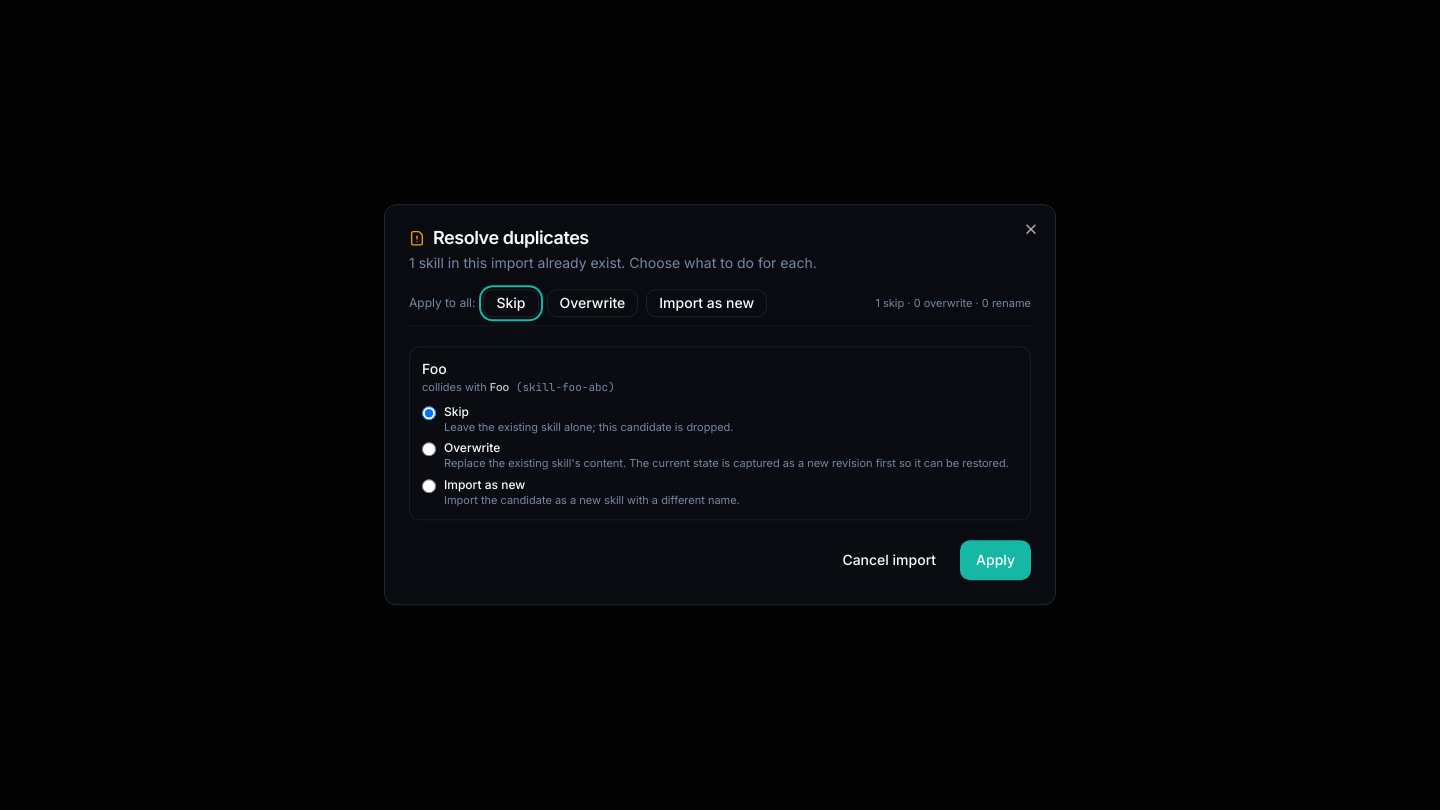
Test case: ImportConflictDialog — per-row mutation › re-suggests with (imported 2) when (imported) is also taken
The width and height of the screenshot is (1440, 810).
What coordinates should you click on to do the following:
click the radio button with test id "import-conflict-cand-1-rename"
I would click on:
 (429, 486)
Its box is [422,479,436,493].
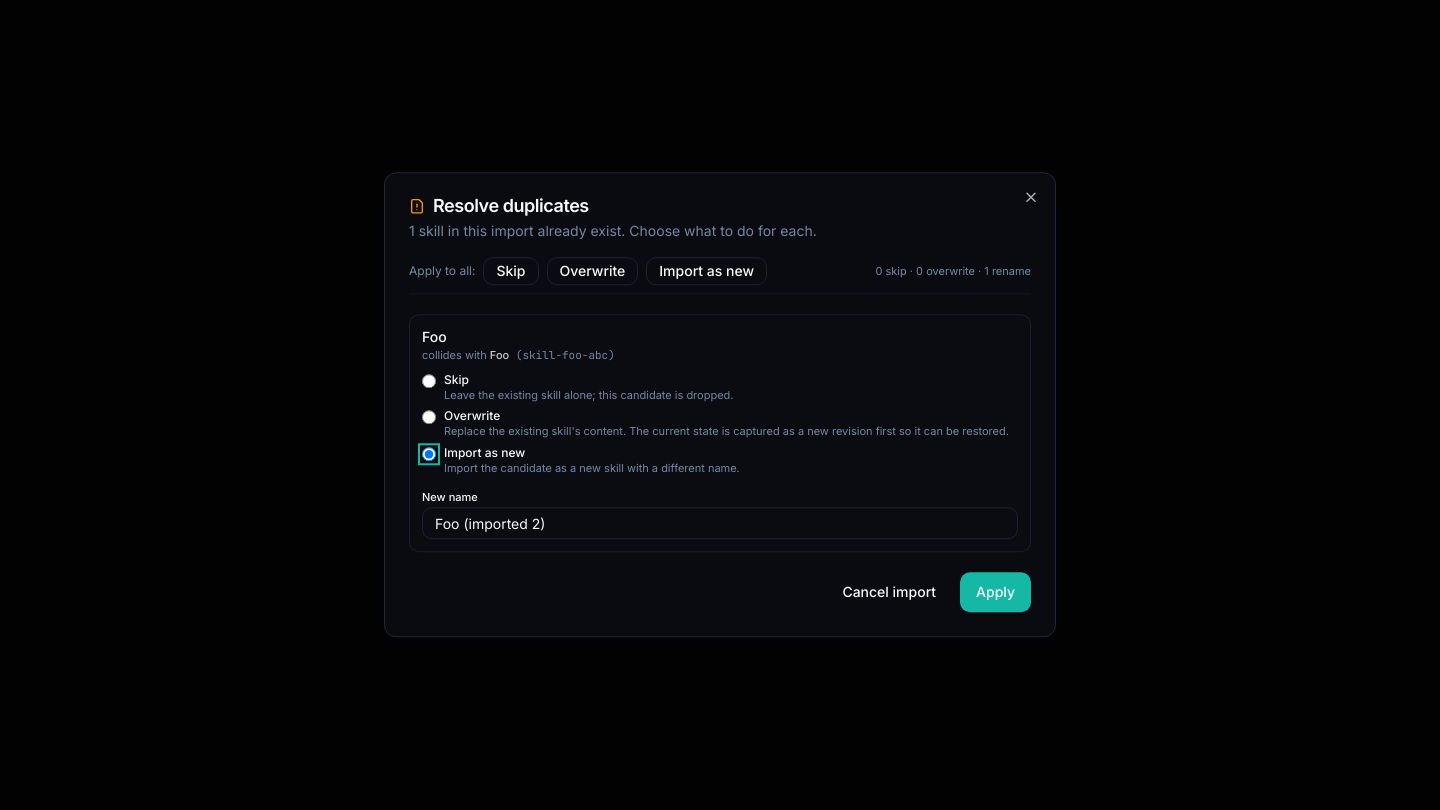
Result: the field with test id "import-conflict-cand-1-rename-input" holds "Foo (imported 2)" at [422,508,1018,540]
